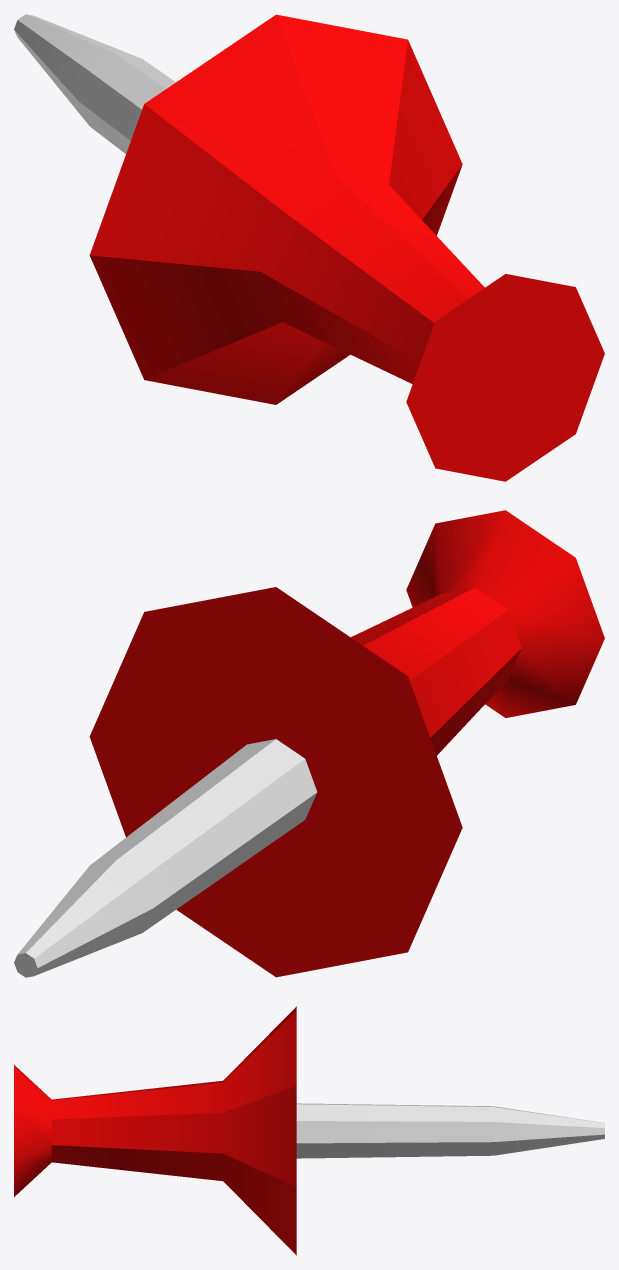
The model's file is CHART PIN, March 11, 2024.fbx.
The picture shows the model from 3 angles, top to bottom: view 1: azimuth 30°, elevation 25°; view 2: azimuth 150°, elevation 25°; view 3: azimuth 270°, elevation 25°; orthographic projection. The views are drawn at different scales.
Visible parts, largest first — view 1: pCylinder1; view 2: pCylinder1; view 3: pCylinder1.
Part boxes in pixels (x1=…): pCylinder1: x1=14, y1=14, x2=604, y2=481; pCylinder1: x1=14, y1=510, x2=604, y2=977; pCylinder1: x1=14, y1=1006, x2=604, y2=1255.
Size of the model in its own units: 0.3692 by 0.3692 by 0.8223.
